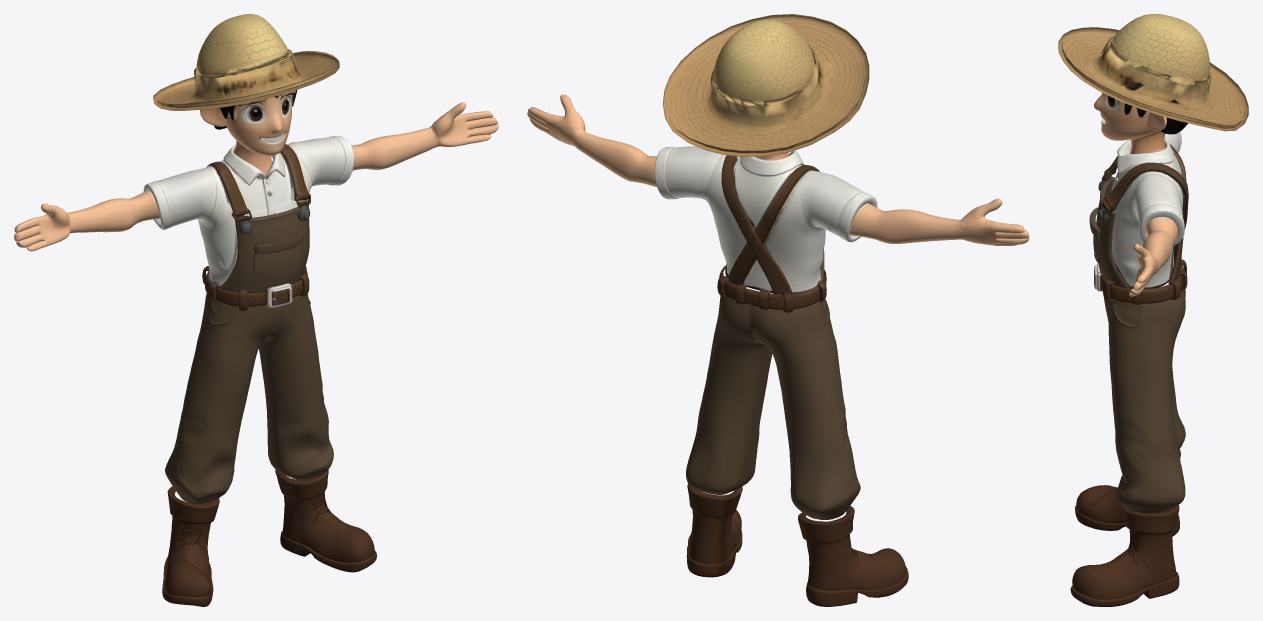
File: toonstudio_farmer.glb
The picture shows the model from 3 angles, left to right: view 1: azimuth 30°, elevation 25°; view 2: azimuth 150°, elevation 25°; view 3: azimuth 270°, elevation 25°; orthographic projection. The views are drawn at different scales.
Visible parts, largest first — view 1: daa0b3c8_f144_4c21_91ac_5f5c7fb99b3a; view 2: daa0b3c8_f144_4c21_91ac_5f5c7fb99b3a; view 3: daa0b3c8_f144_4c21_91ac_5f5c7fb99b3a.
Part boxes in pixels (x1,y1,x2,y2): daa0b3c8_f144_4c21_91ac_5f5c7fb99b3a: (14, 14, 498, 606); daa0b3c8_f144_4c21_91ac_5f5c7fb99b3a: (527, 14, 1029, 606); daa0b3c8_f144_4c21_91ac_5f5c7fb99b3a: (1058, 14, 1248, 606).
Bounding box in the file's own units: 1.59 × 1.7 × 0.539.
1 material, 1 textured.
